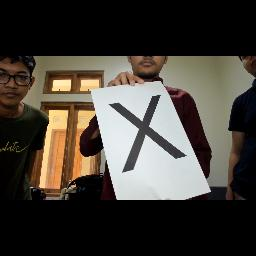x: (98, 92, 194, 176)
